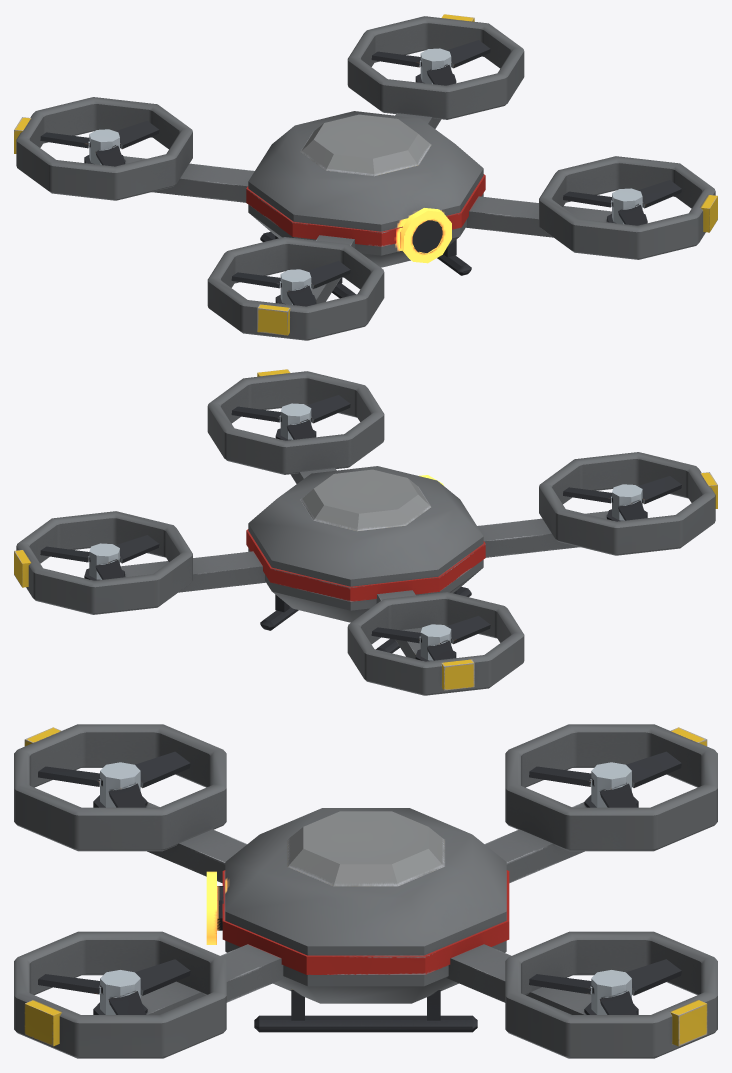
The model's file is FlyingDrone_LOD1.glb.
3 renders of one model, top to bottom at view 1: azimuth 30°, elevation 25°; view 2: azimuth 150°, elevation 25°; view 3: azimuth 270°, elevation 25°, orthographic. The views are drawn at different scales.
Parts seen in each view (by area): view 1: FlyingDrone_LOD1; view 2: FlyingDrone_LOD1; view 3: FlyingDrone_LOD1.
Boxes of the visible parts, <box> form: FlyingDrone_LOD1: <box>14,14,717,340</box>; FlyingDrone_LOD1: <box>14,369,717,695</box>; FlyingDrone_LOD1: <box>14,724,717,1058</box>.
Bounding box in the file's own units: 0.4156 × 0.102 × 0.4156.
1 material, 1 textured.
